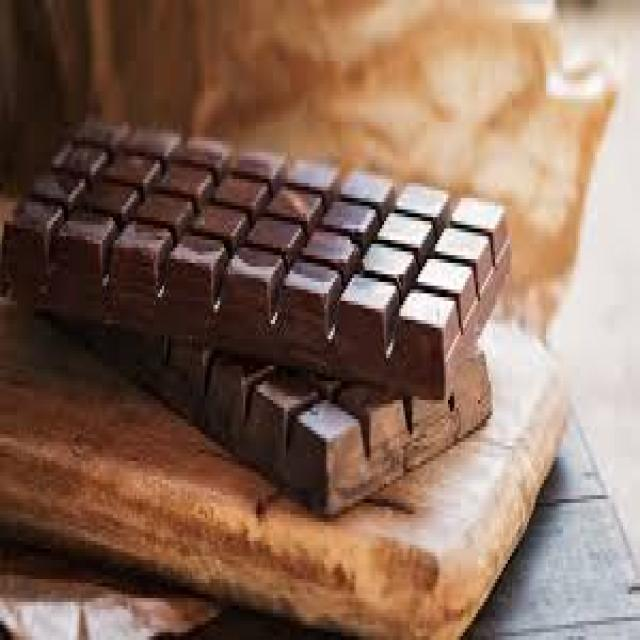Chocolate: (2, 111, 514, 527)
